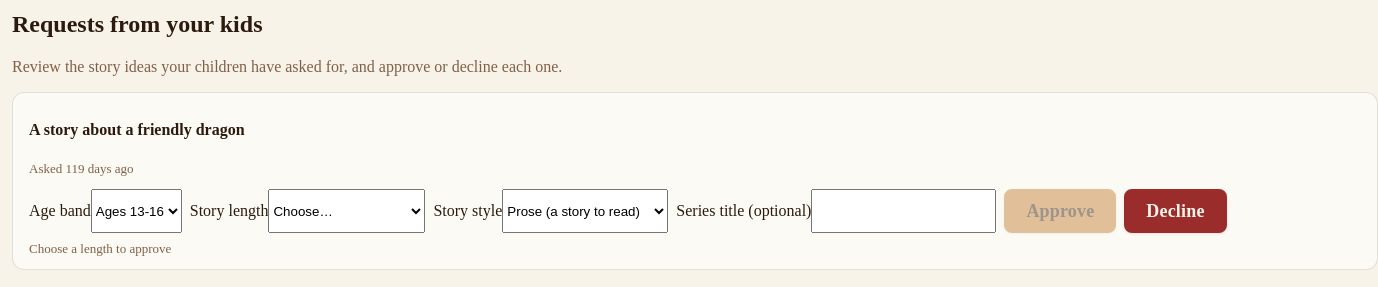
Scenario: RequestsPage › changing the age band select updates the row and hides the style select when leaving a teen band
Expected: the text "A story about a friendly dragon" is shown, [29, 121, 245, 138]
Expected: the dropdown labelled "Story style" is shown, [502, 189, 668, 233]
Select "Ages 8-11" in the dropdown labelled "Age band": (136, 211) [91, 189, 182, 233]
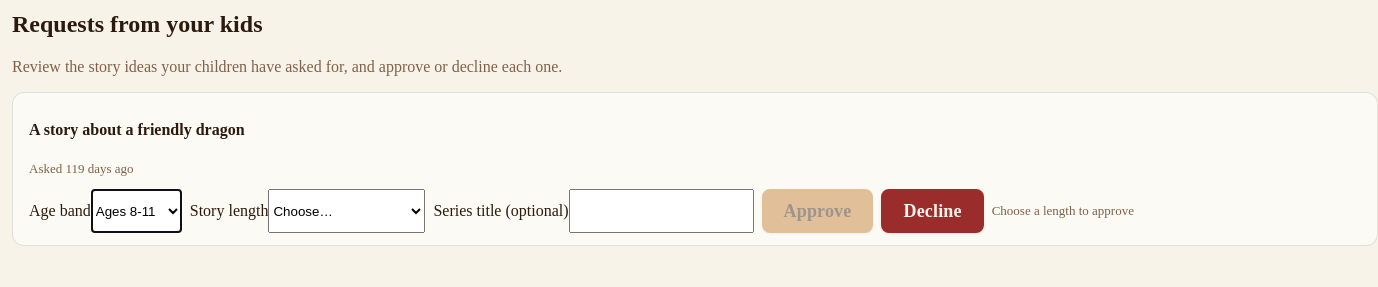
Expected: the label labelled "Story style" is gone
